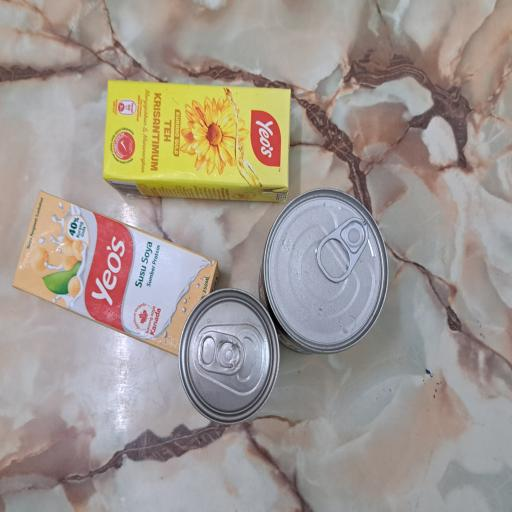can: (115, 343, 242, 512), (67, 238, 169, 376)
drink carton: (116, 15, 241, 294), (231, 138, 325, 388)
pop tab: (172, 421, 222, 491), (102, 263, 137, 326)
